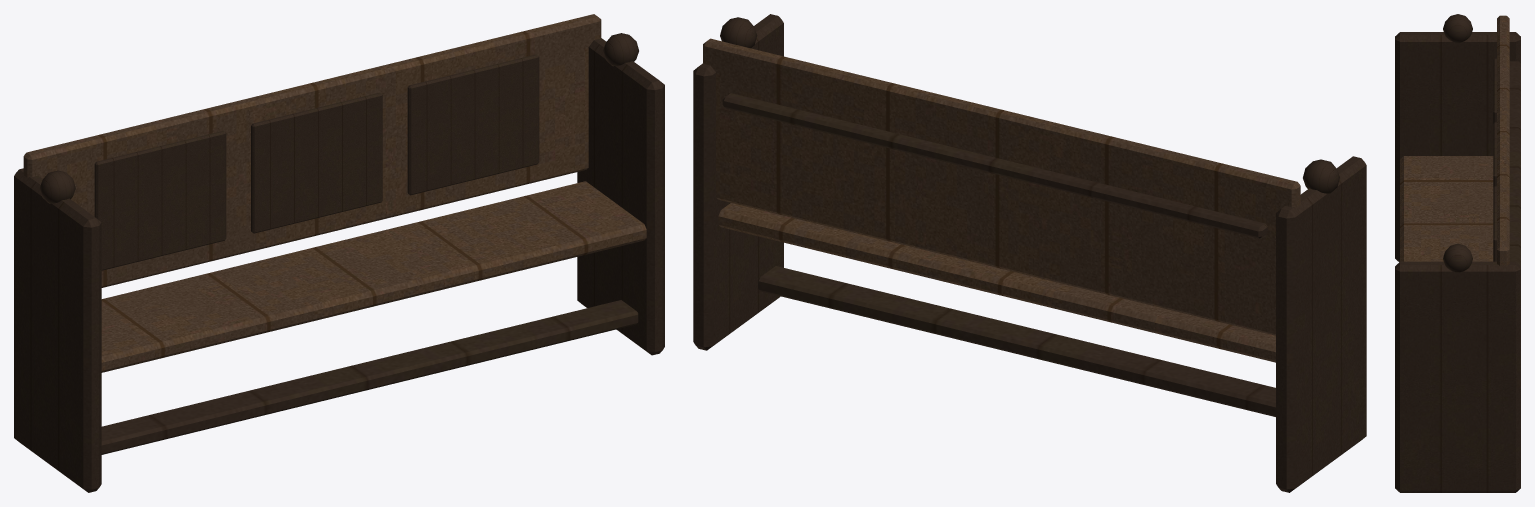
File: pew.glb
3 views of the same model, side by side, from view 1: azimuth 30°, elevation 25°; view 2: azimuth 150°, elevation 25°; view 3: azimuth 270°, elevation 25° (orthographic). The views are drawn at different scales.
Parts seen in each view (by area): view 1: pew; view 2: pew; view 3: pew.
Boxes of the visible parts, <box> form: pew: <box>14,14,664,492</box>; pew: <box>693,14,1366,492</box>; pew: <box>1395,14,1520,492</box>.
Size of the model in its own units: 2.28 by 1.08 by 0.5.
1 material, 1 textured.
